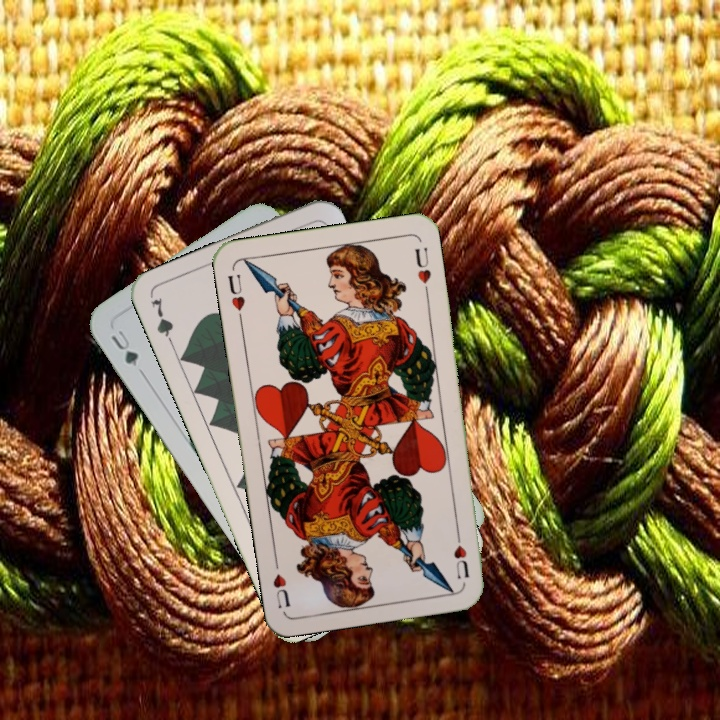G7: (147, 293, 178, 351)
GU: (106, 324, 141, 369)
HU: (224, 269, 248, 324), (450, 525, 472, 582)
